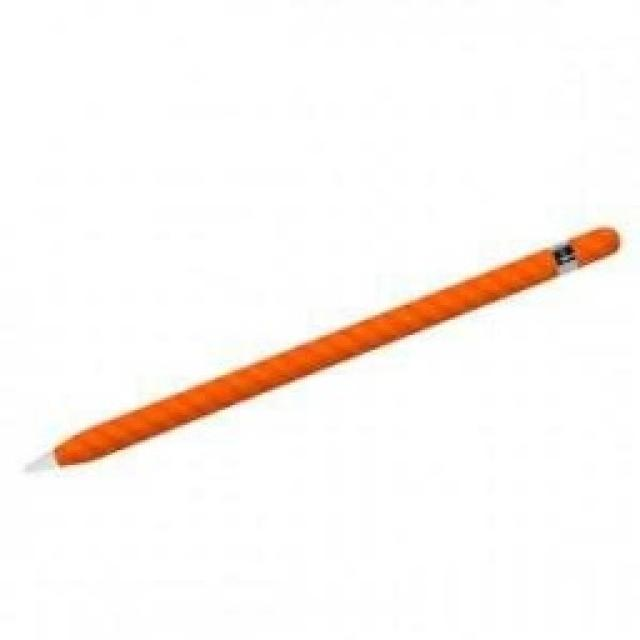pencil: (20, 218, 625, 478)
